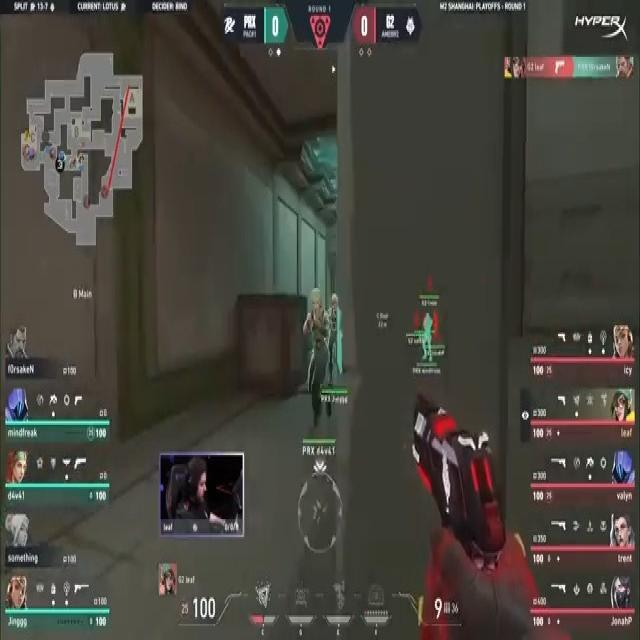ally: (301, 289, 328, 437), (328, 295, 342, 384)
